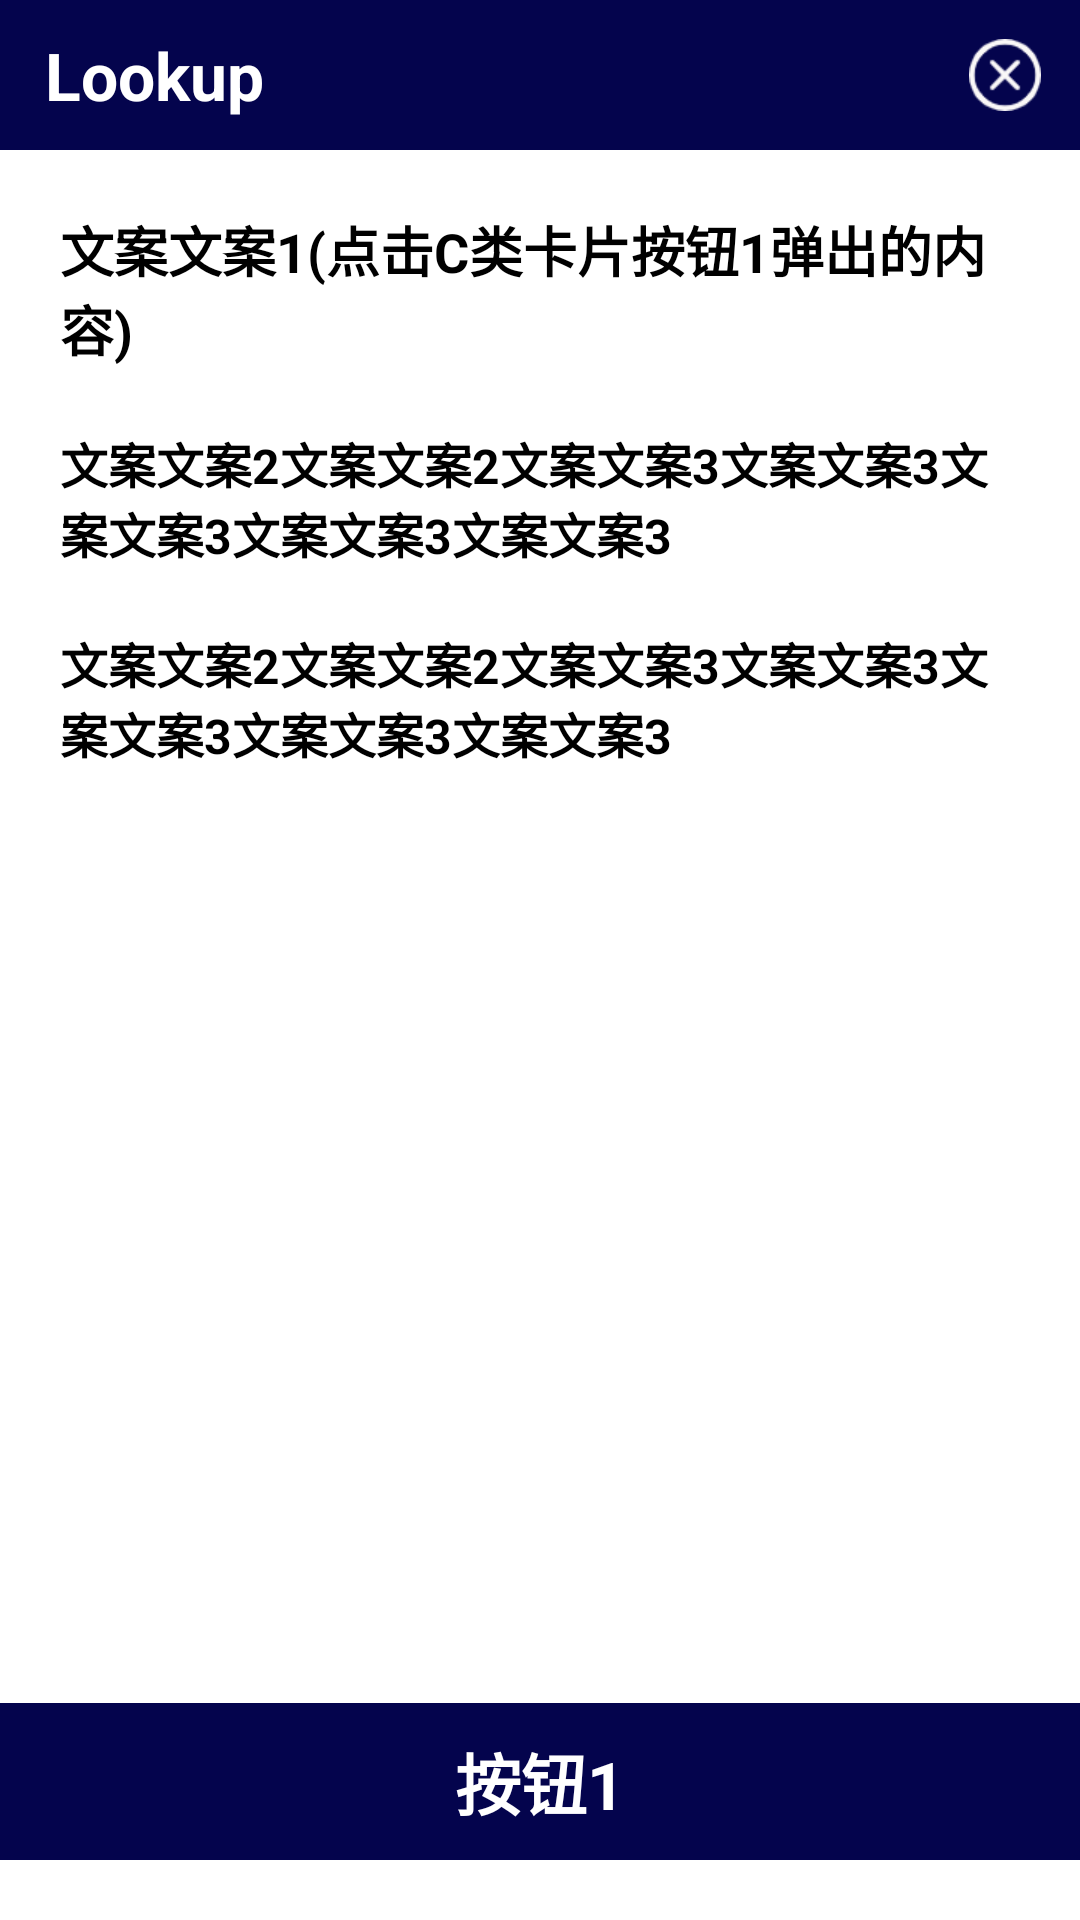

Icons on this 1080×1920 Android screen, each with the point to tap as point (x, y):
close: point (1005, 75)
